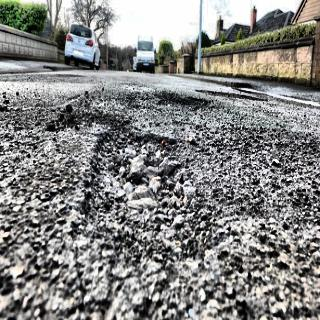pothole: (59, 100, 212, 270)
